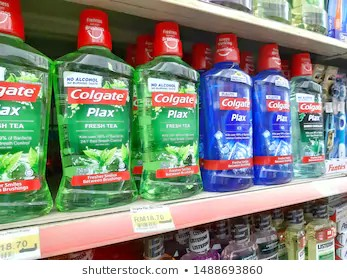colgate-Plax: (54, 11, 135, 213), (138, 13, 205, 204), (1, 1, 53, 216), (205, 34, 255, 193), (255, 40, 290, 187), (292, 51, 325, 177)
